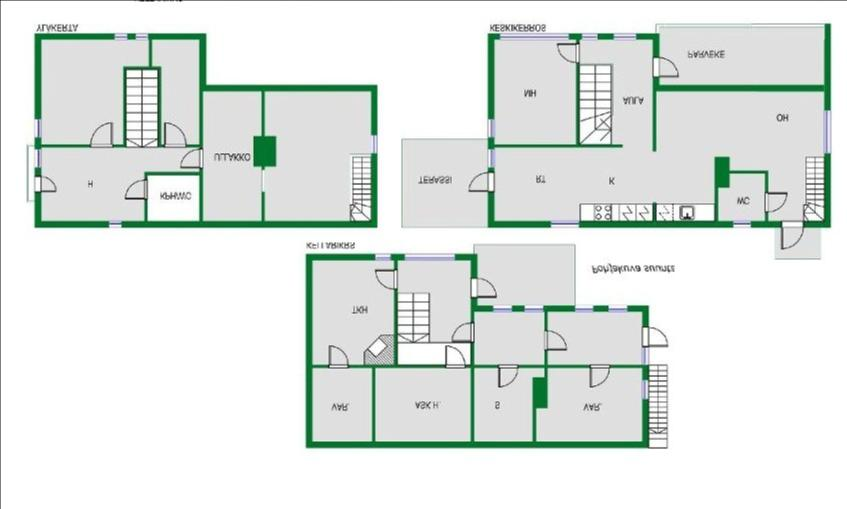door: (778, 221, 805, 252), (449, 318, 478, 346), (586, 362, 611, 390), (465, 170, 495, 192), (640, 326, 670, 348), (556, 40, 582, 65), (88, 122, 115, 146), (160, 122, 186, 146), (371, 269, 398, 292), (469, 277, 496, 300), (124, 177, 148, 202), (496, 364, 520, 389), (326, 345, 352, 368), (651, 58, 680, 78), (543, 330, 568, 353), (178, 146, 204, 168), (762, 191, 789, 212), (444, 344, 465, 367), (34, 176, 56, 194)
window: (400, 249, 460, 264), (494, 30, 574, 40), (820, 101, 832, 160), (547, 218, 582, 231), (484, 115, 498, 140), (368, 131, 380, 160), (32, 114, 43, 142), (487, 303, 517, 313), (104, 219, 129, 231), (602, 302, 632, 312), (640, 374, 650, 404), (520, 302, 545, 314), (728, 219, 752, 231), (578, 30, 601, 42), (607, 33, 641, 41), (32, 146, 42, 171), (568, 304, 596, 312), (372, 251, 394, 261), (129, 31, 151, 41), (486, 146, 494, 171), (110, 32, 132, 41), (642, 347, 650, 368)
